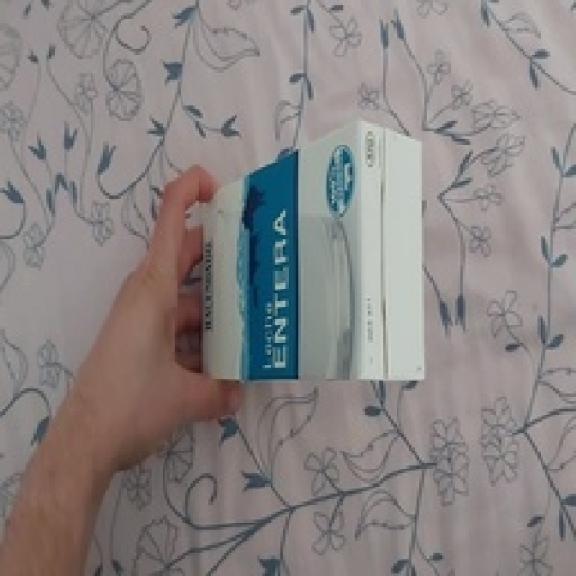Kertas: (206, 121, 401, 373)
